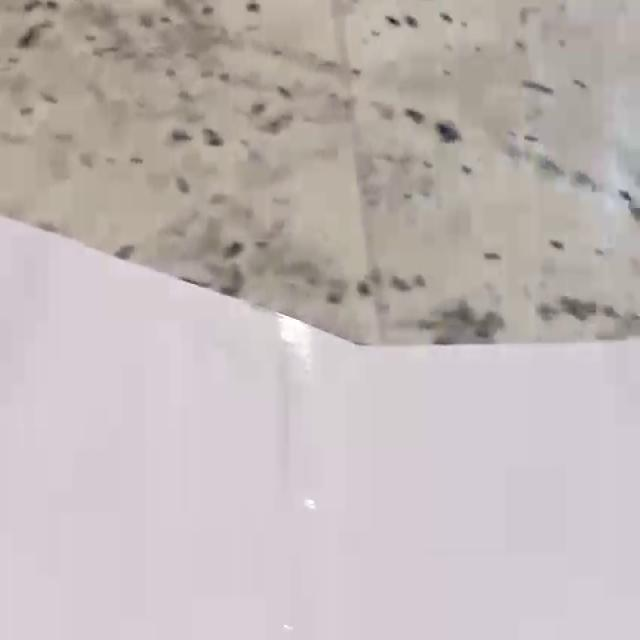road: (0, 219, 640, 640)
